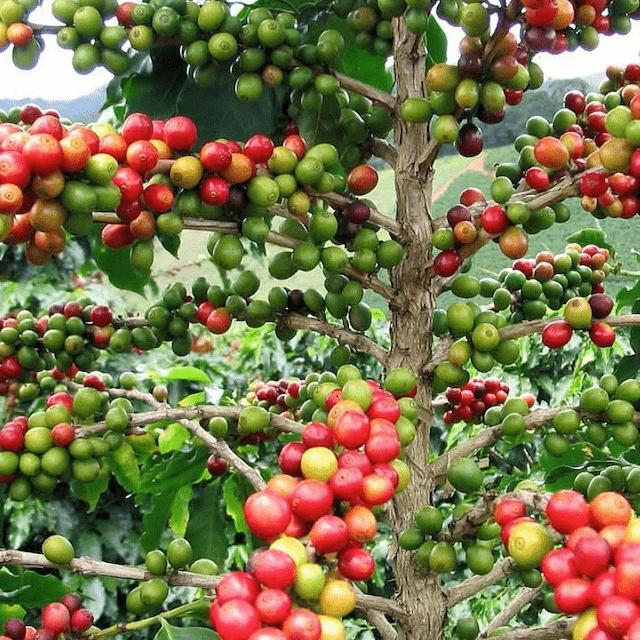cam: (506, 520, 548, 564), (266, 534, 310, 565), (251, 467, 298, 495), (167, 155, 205, 187), (500, 228, 539, 259), (322, 585, 360, 615), (561, 294, 593, 328), (31, 170, 68, 198), (601, 141, 634, 172), (30, 200, 66, 228), (310, 448, 342, 479), (538, 134, 565, 168), (9, 17, 38, 46), (228, 151, 252, 183), (317, 614, 346, 640), (451, 220, 481, 245), (550, 0, 574, 27), (577, 4, 597, 26)
do: (548, 486, 594, 530), (593, 588, 640, 628), (553, 574, 595, 616), (248, 496, 291, 537), (366, 415, 404, 461), (18, 135, 64, 171), (574, 528, 609, 575), (541, 547, 581, 586), (605, 554, 640, 596), (289, 480, 331, 514), (253, 555, 296, 588), (341, 506, 381, 540), (219, 603, 257, 638), (314, 514, 346, 553), (256, 587, 292, 621), (346, 542, 376, 580), (1, 149, 33, 184), (120, 141, 160, 169), (540, 321, 578, 350), (39, 601, 70, 636), (460, 121, 486, 162), (333, 448, 374, 473), (337, 413, 368, 446), (292, 605, 320, 640), (277, 437, 307, 469), (220, 572, 256, 598), (34, 226, 70, 252), (163, 118, 199, 144), (371, 460, 403, 489), (2, 212, 32, 242), (144, 185, 174, 215), (122, 110, 152, 140), (60, 132, 87, 165), (370, 394, 400, 423), (201, 175, 230, 205), (352, 164, 381, 194), (203, 142, 233, 171), (112, 171, 144, 197), (69, 126, 101, 152), (330, 470, 364, 494), (580, 168, 609, 196), (0, 610, 27, 640), (494, 497, 529, 520), (248, 621, 290, 640), (242, 132, 270, 160), (305, 422, 337, 446), (280, 131, 310, 155), (94, 224, 130, 244), (34, 115, 64, 139), (434, 250, 462, 275), (615, 196, 640, 222), (0, 426, 27, 450), (208, 310, 236, 333), (76, 373, 108, 393), (591, 321, 615, 347), (346, 199, 373, 222), (4, 133, 33, 154), (458, 180, 483, 204), (498, 510, 535, 526), (586, 292, 610, 316), (505, 88, 530, 111), (204, 455, 231, 476), (0, 120, 23, 144), (70, 610, 92, 635), (529, 26, 556, 46), (548, 34, 570, 58), (484, 208, 506, 232), (528, 169, 552, 190), (54, 420, 75, 444), (48, 393, 76, 411), (608, 171, 628, 195), (558, 93, 586, 110), (114, 197, 142, 214), (88, 307, 114, 325), (61, 595, 88, 612), (447, 205, 473, 222), (149, 118, 170, 139), (135, 214, 155, 236), (1, 361, 24, 379), (117, 4, 136, 25), (31, 627, 61, 640), (195, 300, 215, 319), (532, 264, 554, 281), (594, 190, 617, 206), (517, 46, 533, 68), (628, 148, 640, 176), (628, 92, 640, 119), (623, 175, 640, 194), (21, 108, 43, 122), (570, 155, 590, 170), (259, 388, 277, 404), (592, 111, 608, 129), (445, 388, 463, 404), (7, 419, 28, 432), (439, 410, 458, 424), (628, 61, 640, 82), (590, 0, 608, 14), (593, 131, 612, 144), (597, 15, 609, 35), (538, 250, 555, 264), (593, 278, 607, 295), (271, 378, 289, 391), (461, 388, 476, 403), (66, 303, 83, 316), (288, 381, 300, 399), (584, 104, 605, 114), (493, 388, 508, 402), (578, 251, 592, 265), (525, 392, 538, 407), (485, 391, 498, 406), (461, 404, 473, 420), (486, 378, 500, 391), (598, 244, 610, 259), (471, 400, 486, 412), (583, 245, 597, 256), (572, 124, 583, 136), (476, 384, 486, 395), (501, 384, 511, 394)
xanh: (39, 534, 89, 561), (246, 176, 282, 213), (89, 180, 123, 217), (434, 359, 472, 391), (296, 566, 331, 599), (89, 154, 123, 187), (138, 572, 170, 607), (424, 64, 460, 95), (208, 237, 245, 267), (361, 107, 395, 139), (354, 244, 384, 280), (400, 94, 436, 124), (408, 501, 446, 529), (238, 402, 270, 435), (446, 462, 481, 492), (72, 385, 104, 417), (344, 379, 377, 409), (101, 50, 134, 80), (69, 176, 95, 214), (290, 244, 323, 273), (68, 9, 106, 34), (384, 370, 419, 397), (239, 75, 267, 108), (429, 304, 455, 339), (14, 39, 40, 74), (72, 44, 100, 76), (191, 549, 218, 582), (605, 396, 634, 426), (70, 457, 104, 482), (65, 206, 94, 235), (451, 609, 481, 637), (130, 238, 153, 274), (616, 460, 640, 494), (448, 307, 476, 336), (192, 62, 221, 90), (198, 2, 226, 31), (538, 424, 565, 454), (460, 4, 490, 31), (319, 246, 350, 272), (312, 167, 336, 200), (434, 114, 458, 147), (524, 108, 552, 136), (99, 23, 128, 50), (167, 535, 192, 566), (309, 146, 344, 168), (358, 8, 382, 40), (548, 200, 575, 228), (269, 253, 297, 280), (151, 7, 179, 34), (526, 58, 548, 92), (606, 421, 638, 444), (457, 81, 483, 109), (28, 424, 56, 450), (243, 214, 269, 242), (127, 26, 153, 54), (607, 104, 631, 134), (177, 185, 200, 216), (314, 211, 336, 243), (497, 338, 524, 364), (476, 327, 504, 352), (228, 275, 264, 294), (567, 468, 598, 490), (144, 544, 166, 575), (395, 417, 421, 443), (350, 305, 374, 333), (321, 296, 349, 320), (466, 546, 488, 576), (42, 448, 67, 474), (273, 147, 297, 174), (530, 211, 562, 231), (451, 277, 480, 299), (478, 404, 505, 427), (554, 407, 577, 434), (502, 414, 532, 434), (320, 75, 344, 100), (56, 22, 81, 46), (121, 587, 149, 608), (335, 360, 364, 380), (187, 42, 216, 62), (24, 411, 56, 429), (610, 14, 634, 38), (404, 8, 428, 32), (301, 88, 325, 112), (382, 239, 407, 262), (202, 286, 228, 308), (87, 434, 113, 456), (478, 268, 497, 298), (508, 204, 531, 228), (262, 19, 286, 42), (214, 33, 236, 58), (9, 480, 35, 501), (443, 344, 470, 364), (0, 2, 28, 21), (320, 40, 343, 63), (618, 375, 640, 399), (472, 353, 494, 377), (582, 386, 606, 408), (170, 331, 192, 355), (34, 471, 58, 493), (554, 108, 574, 134), (402, 527, 429, 546), (300, 160, 319, 187), (52, 0, 76, 21), (501, 400, 532, 416), (489, 81, 506, 110), (105, 413, 132, 431), (225, 294, 246, 317), (132, 327, 155, 348), (511, 262, 527, 292), (578, 28, 598, 52), (496, 163, 524, 180), (291, 285, 309, 311), (40, 328, 66, 346), (311, 386, 332, 408), (266, 291, 288, 312), (489, 287, 512, 307), (399, 396, 422, 416), (432, 541, 452, 564), (523, 303, 550, 320), (50, 404, 77, 421), (150, 302, 168, 327), (300, 40, 318, 65), (103, 432, 125, 452), (277, 171, 297, 193), (354, 30, 374, 52), (324, 29, 346, 49), (114, 402, 141, 418), (19, 453, 37, 477), (440, 1, 460, 22), (164, 214, 183, 236), (587, 475, 613, 491), (0, 450, 18, 473), (340, 283, 363, 301), (495, 181, 515, 201), (624, 118, 640, 143), (208, 419, 228, 439), (182, 24, 202, 44), (250, 300, 269, 321), (602, 372, 624, 390), (372, 35, 389, 58), (244, 48, 261, 71), (324, 275, 350, 290), (601, 464, 621, 483), (380, 3, 403, 19), (289, 26, 305, 49), (292, 67, 310, 87), (240, 23, 258, 43), (19, 346, 36, 367), (74, 352, 96, 368), (356, 231, 379, 246), (69, 438, 92, 453), (65, 334, 83, 353), (299, 397, 315, 418), (331, 171, 347, 192), (619, 0, 640, 16), (97, 1, 118, 17), (524, 280, 540, 300), (52, 313, 68, 333), (379, 18, 395, 38), (520, 147, 537, 165), (22, 380, 40, 397), (163, 292, 180, 309), (310, 406, 328, 422), (134, 2, 150, 20), (172, 312, 187, 331), (40, 375, 59, 390), (548, 279, 562, 299), (116, 333, 131, 351), (272, 51, 294, 63), (249, 12, 275, 22), (67, 318, 85, 332), (417, 545, 437, 557), (274, 15, 298, 25), (164, 0, 185, 11), (120, 371, 139, 383), (578, 281, 593, 296), (565, 249, 579, 265), (192, 281, 208, 295), (21, 315, 34, 332), (0, 328, 17, 341), (321, 370, 336, 384), (303, 374, 322, 385), (169, 284, 188, 295), (407, 0, 427, 10), (186, 298, 197, 316), (60, 355, 76, 367), (568, 270, 581, 284), (188, 6, 200, 21), (556, 260, 572, 271), (22, 331, 38, 342), (579, 266, 592, 279), (18, 310, 31, 318)
